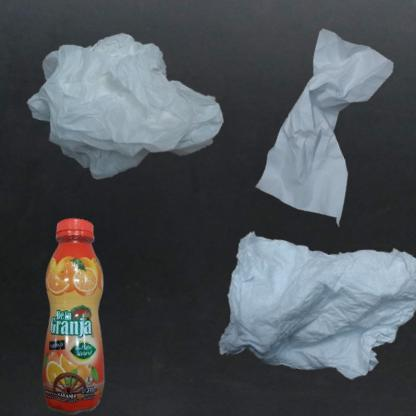bolsa: (10, 10, 265, 232)
botella: (10, 213, 164, 416)
papel: (213, 10, 416, 265), (213, 213, 416, 409)
